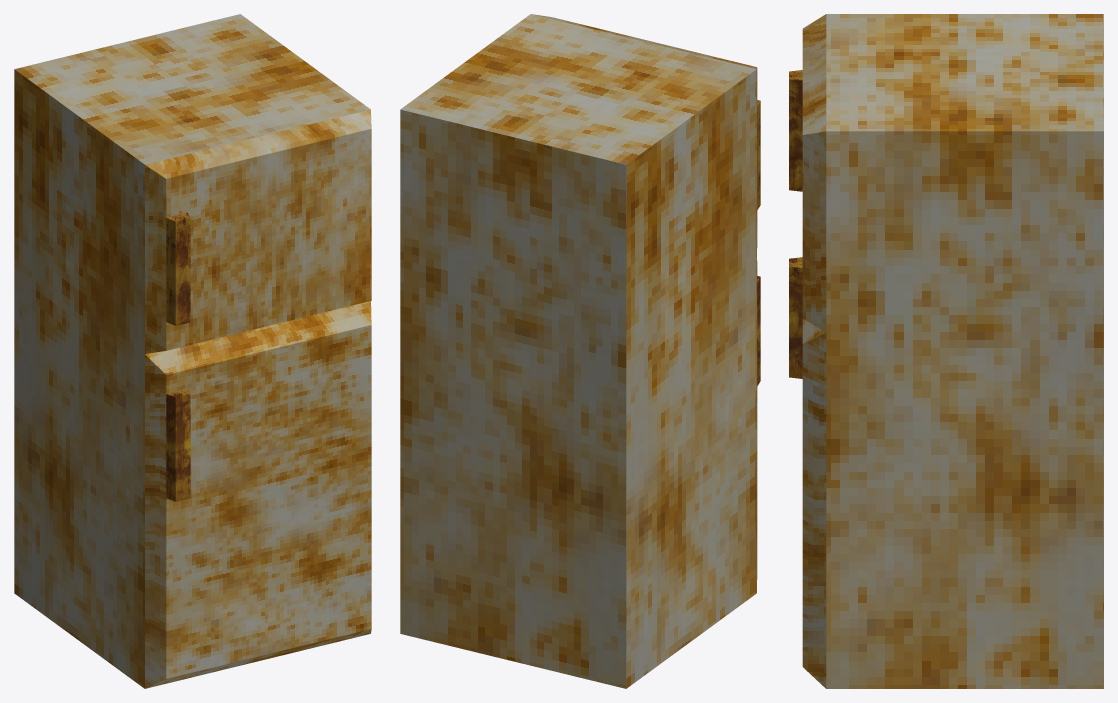
Rendered from Fridge.gltf.
The picture shows the model from 3 angles, left to right: view 1: azimuth 30°, elevation 25°; view 2: azimuth 150°, elevation 25°; view 3: azimuth 270°, elevation 25°; orthographic projection. The views are drawn at different scales.
Visible parts, largest first — view 1: Fridge, Fridge.001-convcol, Fridge.002-convcol; view 2: Fridge, Fridge.002-convcol, Fridge.001-convcol; view 3: Fridge, Fridge.001-convcol, Fridge.002-convcol.
Part boxes in pixels (x1=…): Fridge: x1=14, y1=14, x2=370, y2=688; Fridge.001-convcol: x1=145, y1=301, x2=371, y2=688; Fridge.002-convcol: x1=145, y1=109, x2=371, y2=353; Fridge: x1=400, y1=14, x2=756, y2=688; Fridge.002-convcol: x1=531, y1=14, x2=760, y2=257; Fridge.001-convcol: x1=756, y1=259, x2=760, y2=592; Fridge: x1=826, y1=14, x2=1103, y2=688; Fridge.001-convcol: x1=789, y1=257, x2=826, y2=688; Fridge.002-convcol: x1=789, y1=14, x2=826, y2=332.
Size of the model in its own units: 0.6954 by 1.54 by 0.7881.
2 materials, 2 textured.
